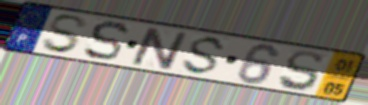6: (234, 43, 281, 86)
N: (128, 25, 189, 72)
S: (276, 49, 325, 93), (81, 20, 131, 63), (39, 13, 90, 55), (179, 35, 229, 77)
